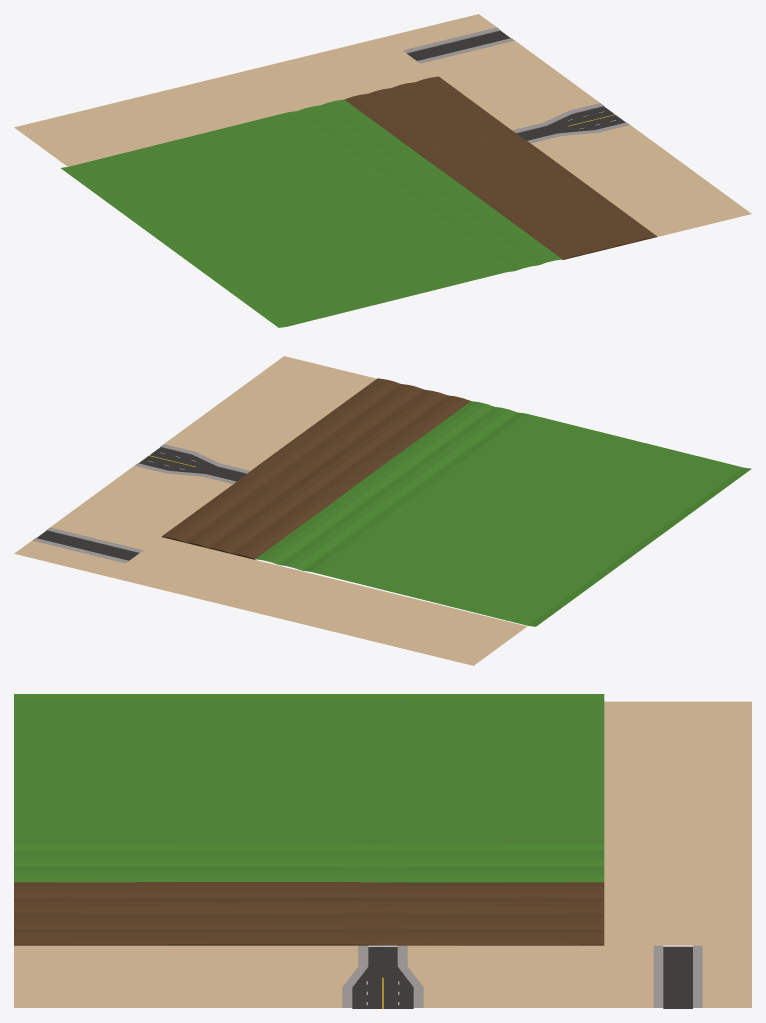
File: road-zone-cannabis.glb
The picture shows the model from 3 angles, top to bottom: view 1: azimuth 30°, elevation 25°; view 2: azimuth 150°, elevation 25°; view 3: azimuth 270°, elevation 25°; orthographic projection. The views are drawn at different scales.
Visible parts, largest first — view 1: farm-flower-bed.001, farm-flower-bed.007, tile-road-to-mainroad-nb, tile-plain-nb.001, tile-road-straight-nb.008; view 2: farm-flower-bed.001, farm-flower-bed.007, tile-road-to-mainroad-nb, tile-plain-nb.001, tile-road-straight-nb.008; view 3: farm-flower-bed.001, farm-flower-bed.007, tile-road-to-mainroad-nb, tile-plain-nb.001, tile-road-straight-nb.008.
Part boxes in pixels (box(x1,y1,x2,y2)): farm-flower-bed.001: box(61, 99, 562, 327); farm-flower-bed.007: box(344, 76, 657, 259); tile-road-to-mainroad-nb: box(440, 54, 751, 236); tile-plain-nb.001: box(14, 37, 437, 166); tile-road-straight-nb.008: box(384, 14, 532, 76); farm-flower-bed.001: box(255, 401, 751, 626); farm-flower-bed.007: box(161, 378, 470, 559); tile-road-to-mainroad-nb: box(68, 356, 376, 536); tile-plain-nb.001: box(108, 537, 526, 665); tile-road-straight-nb.008: box(14, 514, 160, 576); farm-flower-bed.001: box(14, 694, 604, 882); farm-flower-bed.007: box(14, 881, 604, 945); tile-road-to-mainroad-nb: box(14, 945, 604, 1008); tile-plain-nb.001: box(604, 701, 751, 945); tile-road-straight-nb.008: box(604, 945, 751, 1008).
Bounding box in the file's own units: 150 × 0.7681 × 150.
